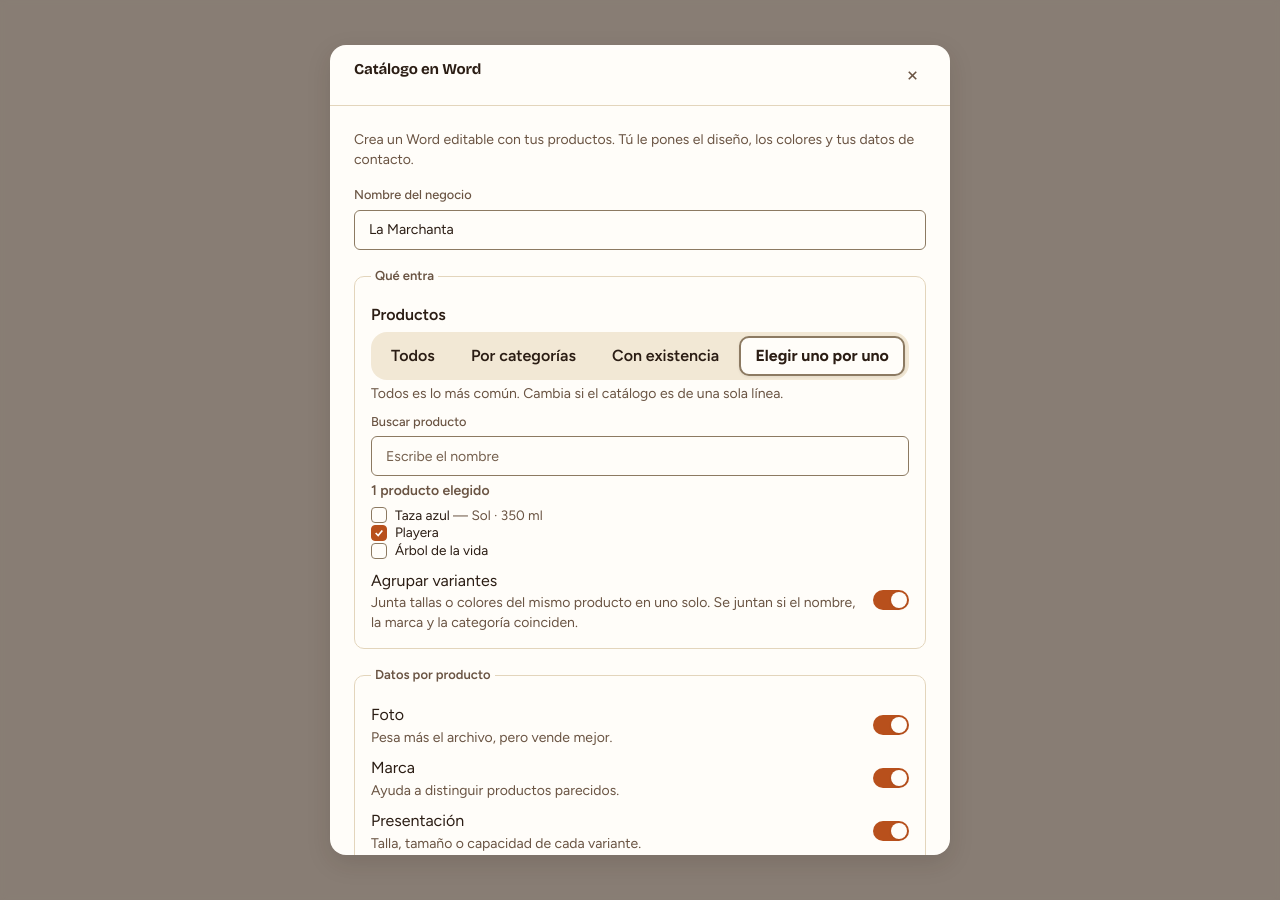
CatalogExportDialog — qué entra › selección manual con buscador (sin acentos ni mayúsculas) y contador
In the search field labelled "Buscar producto": (640,456) [371,436,909,476], type "ARBOL"
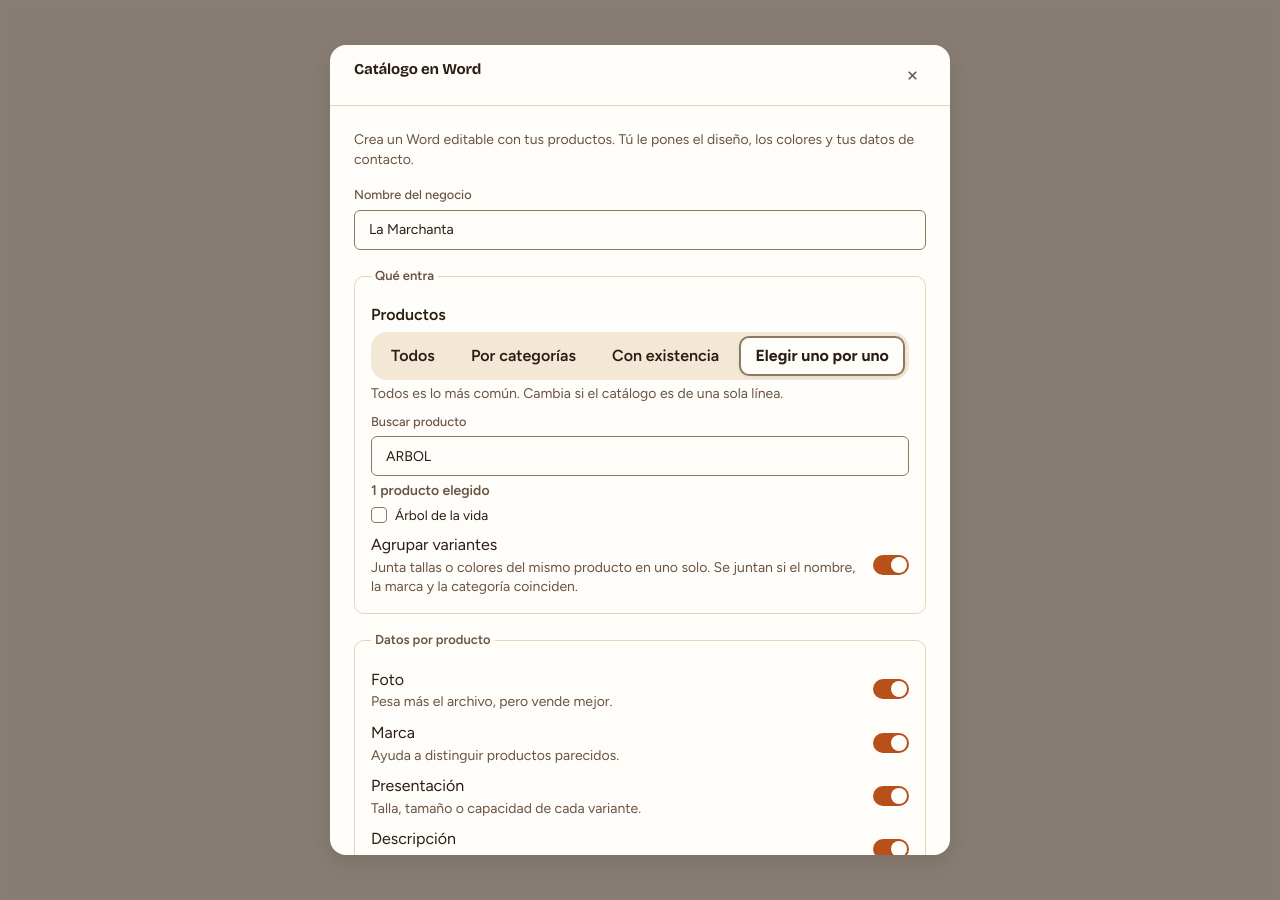
Click the checkbox labelled "Árbol de la vida": (430,515) [371,506,488,523]
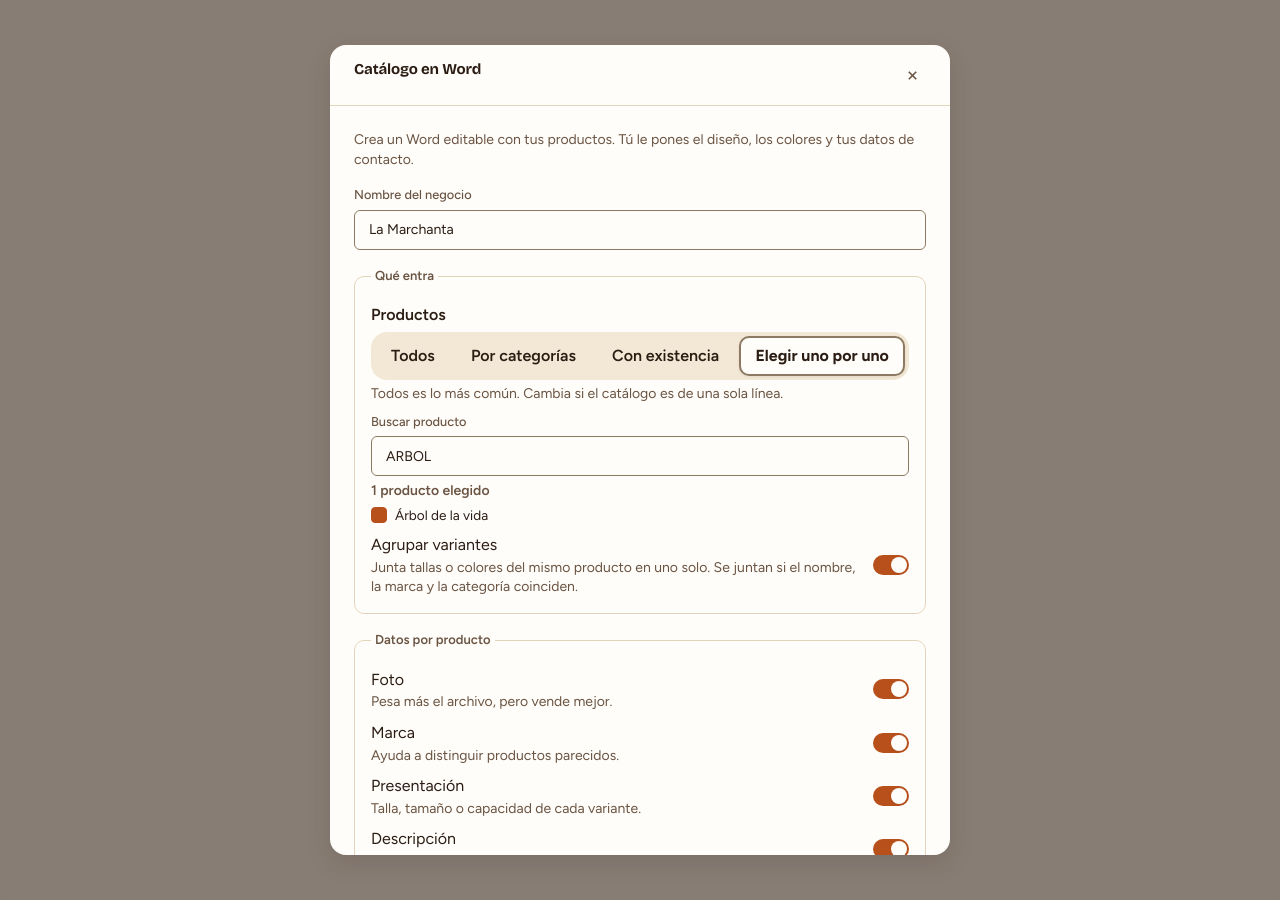
Replace the text in the search field labelled "Buscar producto" with "zzz": (640,456) [371,436,909,476]
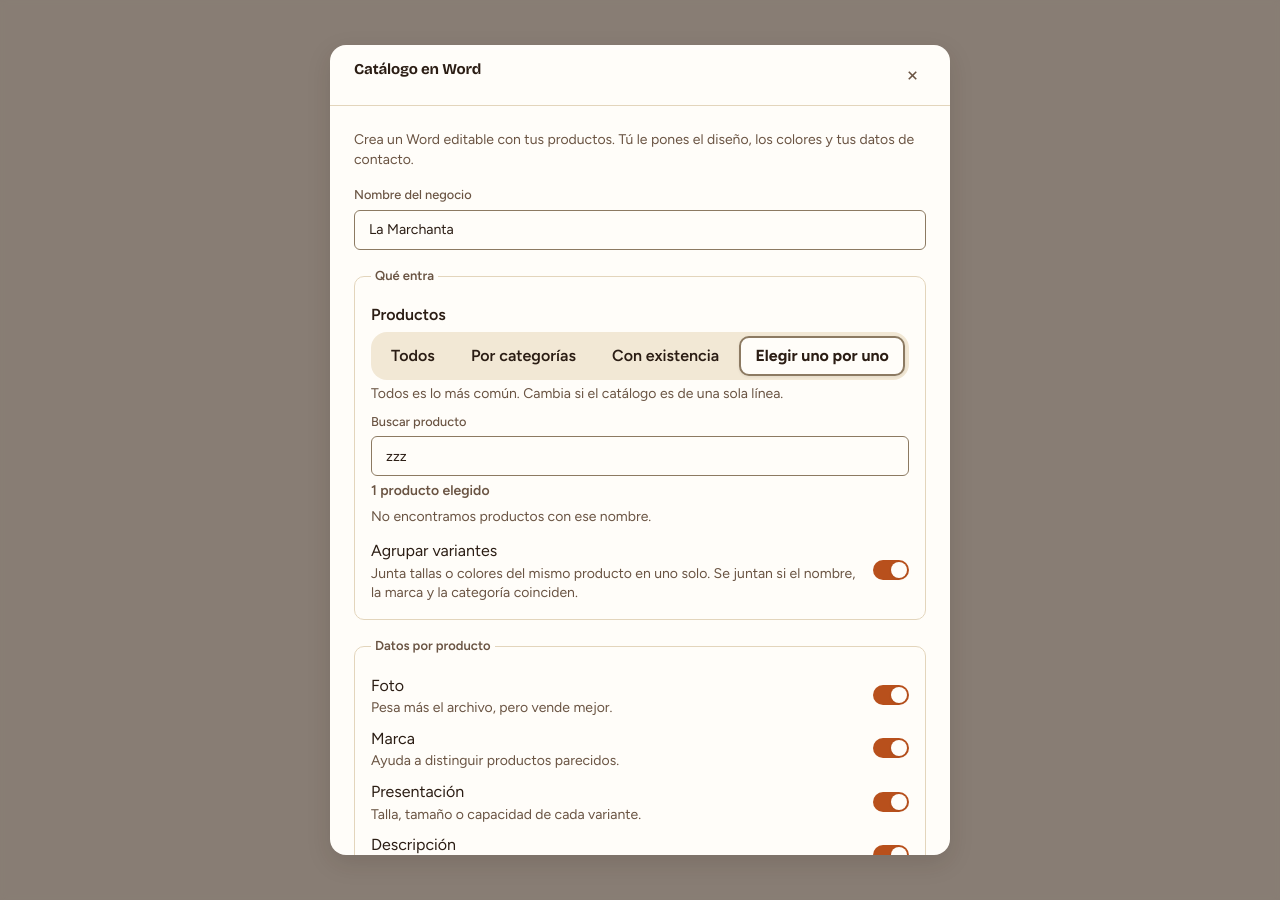
Now the text "No encontramos productos con ese nombre." is shown, box [371,508,651,524]
